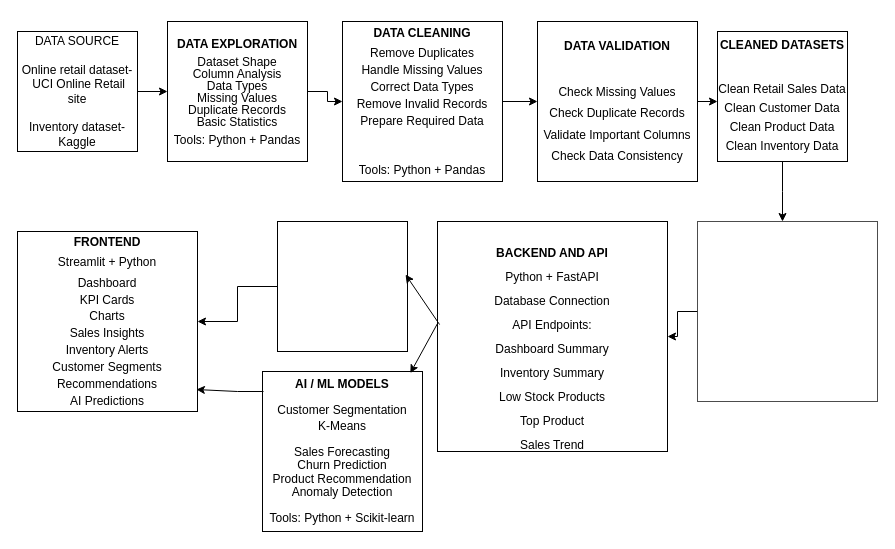
Some shapes in this 895 by 549 pixel diagram are drawn without their labels. Each missing label, with the centre of its shape:
"DATA ANALYTICS Sales Analysis Product Analysis Inventory Analysis Trend Analysis" belongs at pixel 342 286.
"DATABASE SQLite Database Tables: Sales Customers Products Inventory" belongs at pixel 787 311.
